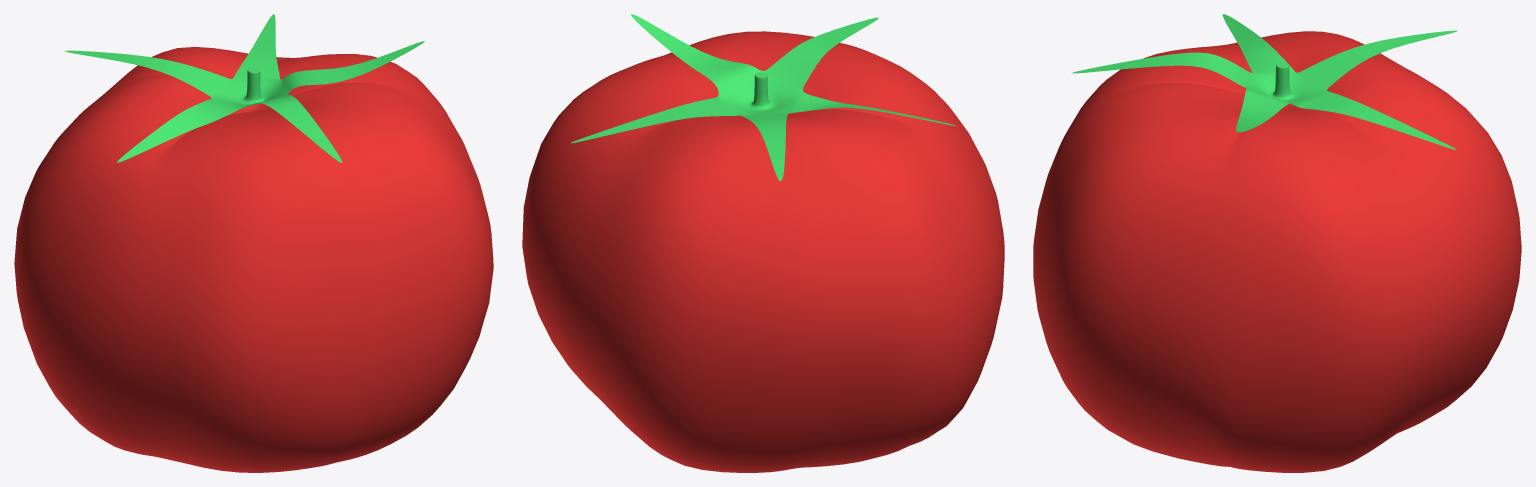
Rendered from tomato.glb.
The picture shows the model from 3 angles, left to right: view 1: azimuth 30°, elevation 25°; view 2: azimuth 150°, elevation 25°; view 3: azimuth 270°, elevation 25°; orthographic projection. The views are drawn at different scales.
Parts seen in each view (by area): view 1: tomato, tomato.leaf; view 2: tomato, tomato.leaf; view 3: tomato, tomato.leaf.
Part boxes in pixels (left/top/right/bottom): tomato: left=14, top=47, right=493, bottom=472; tomato.leaf: left=65, top=14, right=424, bottom=162; tomato: left=522, top=31, right=1004, bottom=472; tomato.leaf: left=570, top=14, right=956, bottom=181; tomato: left=1033, top=31, right=1521, bottom=472; tomato.leaf: left=1071, top=14, right=1457, bottom=149.
Bounding box in the file's own units: 0.076 × 0.0609 × 0.0749.
